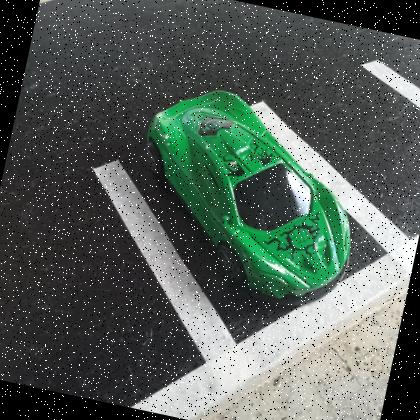Car: (144, 91, 351, 307)
